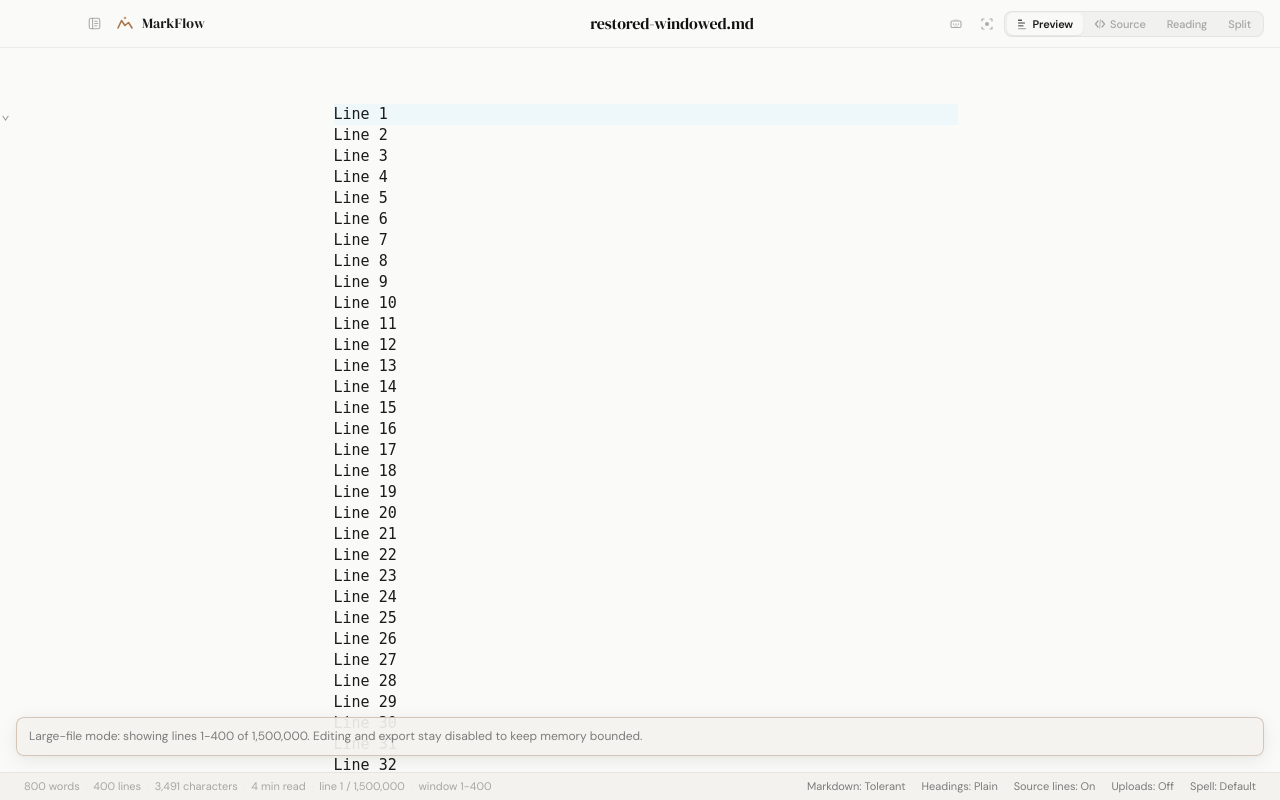
App desktop integration › refreshes the large-file status bar when restored tab state changes before editor cursor events
This screenshot has width=1280, height=800.
Expected: the text "line 1 / 1,500,000" is shown, [319,777,405,796]
Press l
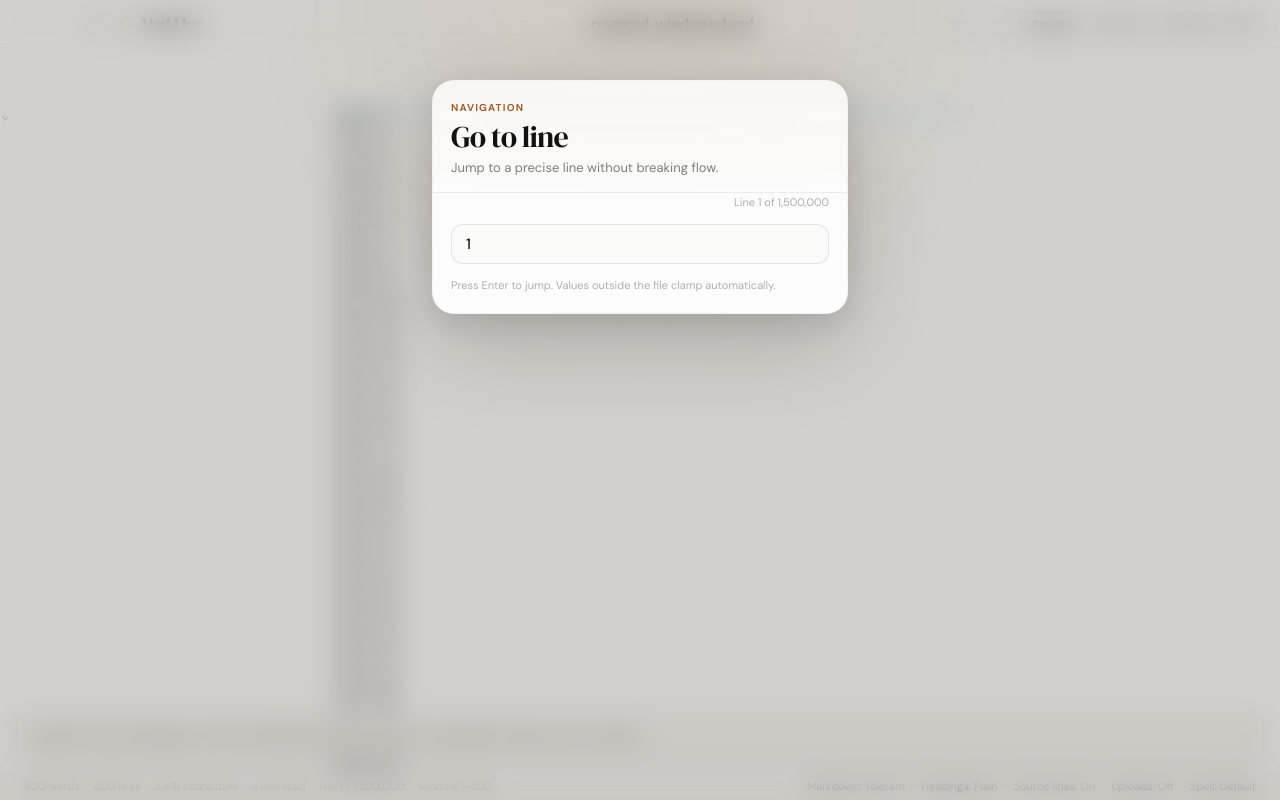
Replace the text in the field named "Line number" with "1000000" at (640, 244), box [451,224,829,264]
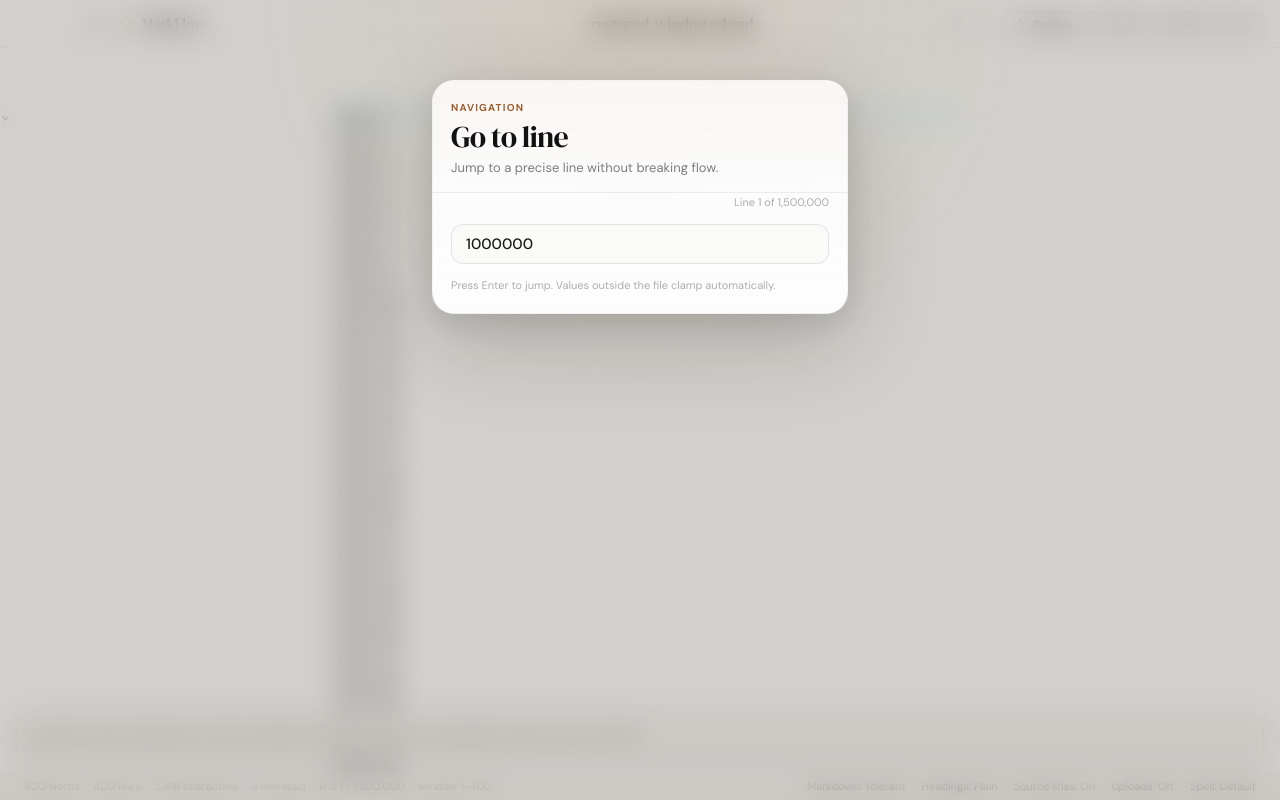
Submit the form named "Line number", box [451,193,829,294]
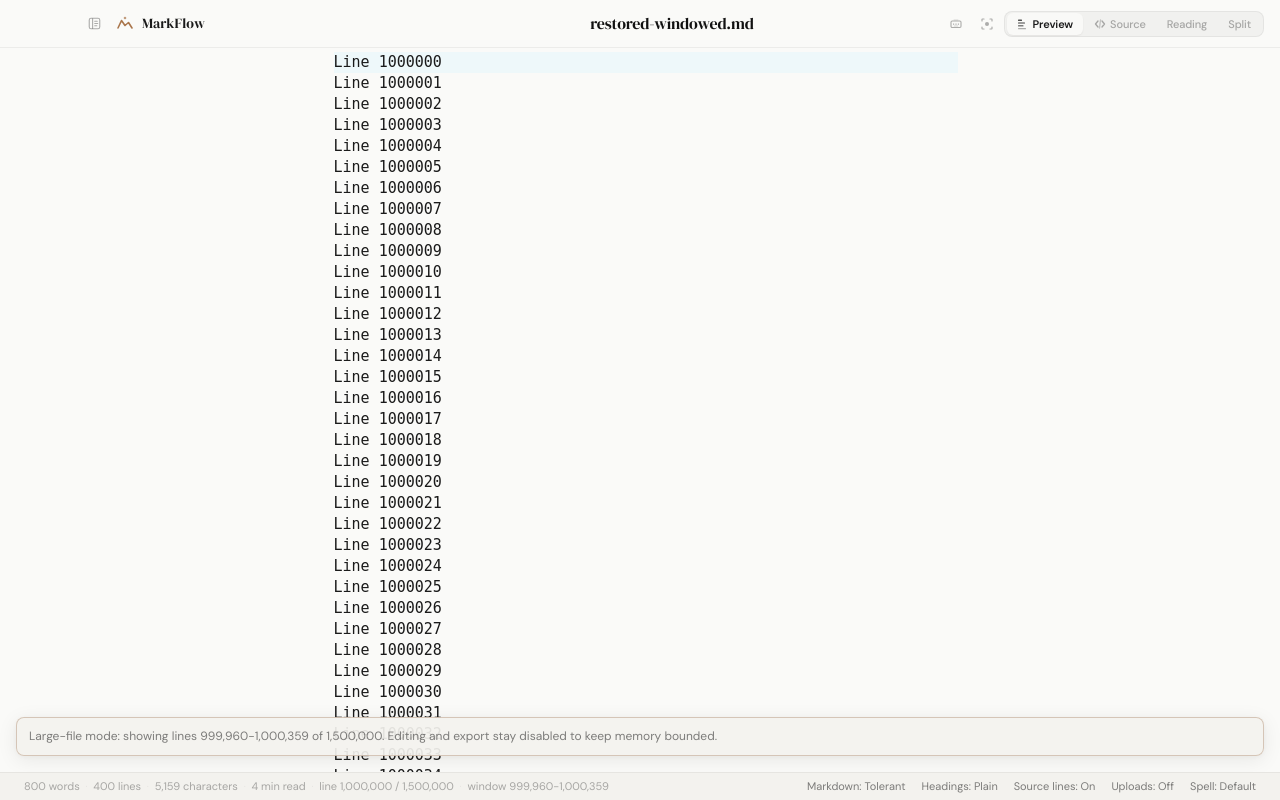
Expected: the text "line 1,000,000 / 1,500,000" is shown, [319,777,454,796]
